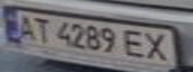2: (66, 20, 87, 51)
4: (51, 18, 72, 47)
8: (84, 22, 103, 52)
9: (100, 25, 121, 55)
A: (12, 11, 39, 43)
E: (121, 28, 151, 60)
T: (30, 15, 54, 45)
X: (139, 29, 175, 63)
